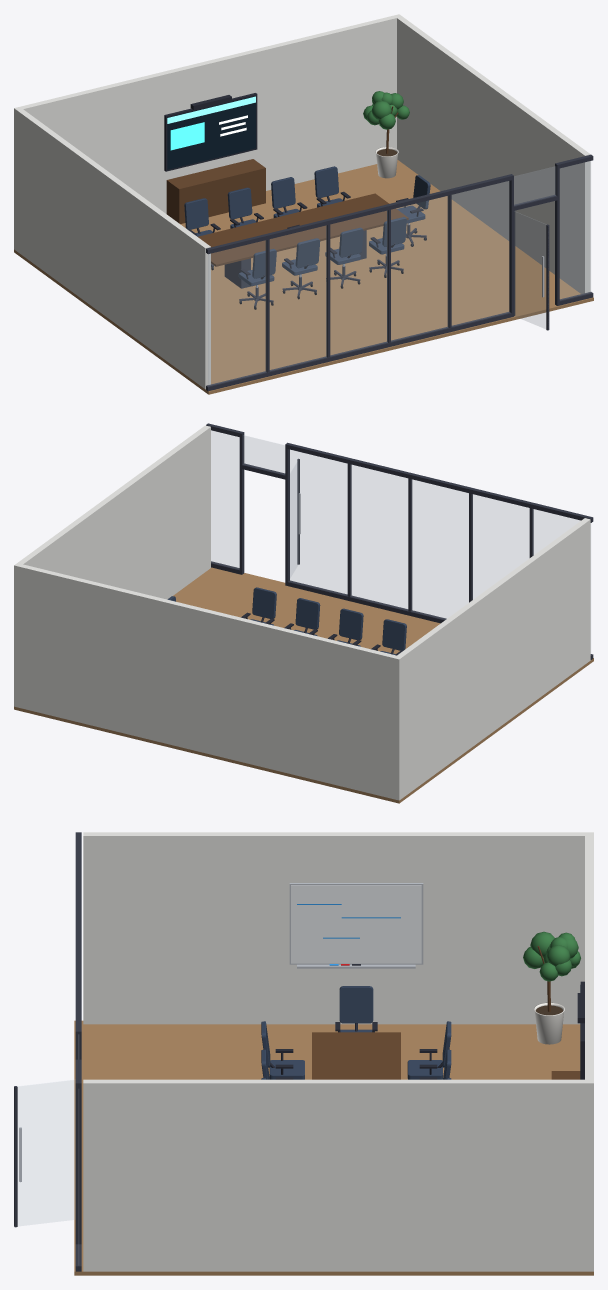
3 renders of one model, top to bottom at view 1: azimuth 30°, elevation 25°; view 2: azimuth 150°, elevation 25°; view 3: azimuth 270°, elevation 25°, orthographic. The views are drawn at different scales.
Parts seen in each view (by area): view 1: office_wall, glass_clear, wood_floor, dark_steel, walnut, chair_fabric, monitor_screen, plastic_dark, leaf, trace_spo2, pump_screen, ceramic_white; view 2: office_wall, glass_clear, wood_floor, dark_steel, chair_fabric; view 3: office_wall, wood_floor, white, glass_clear, walnut, dark_steel, chair_fabric, leaf, stainless, plastic_dark, ceramic_white.
Boxes of the visible parts, left/top/right/bottom form: office_wall: left=14, top=14, right=590, bottom=389; glass_clear: left=208, top=161, right=590, bottom=385; wood_floor: left=14, top=160, right=593, bottom=394; dark_steel: left=206, top=154, right=593, bottom=391; walnut: left=166, top=106, right=408, bottom=266; chair_fabric: left=184, top=166, right=430, bottom=286; monitor_screen: left=167, top=96, right=255, bottom=169; plastic_dark: left=164, top=93, right=423, bottom=279; leaf: left=363, top=91, right=409, bottom=129; trace_spo2: left=170, top=122, right=204, bottom=150; pump_screen: left=167, top=96, right=255, bottom=123; ceramic_white: left=375, top=147, right=398, bottom=178; office_wall: left=14, top=425, right=590, bottom=800; glass_clear: left=211, top=431, right=579, bottom=618; wood_floor: left=14, top=567, right=593, bottom=803; dark_steel: left=206, top=423, right=593, bottom=659; chair_fabric: left=167, top=587, right=406, bottom=654; office_wall: left=83, top=832, right=593, bottom=1271; wood_floor: left=74, top=1020, right=593, bottom=1275; white: left=291, top=885, right=421, bottom=963; glass_clear: left=18, top=1080, right=74, bottom=1225; walnut: left=312, top=946, right=580, bottom=1079; dark_steel: left=14, top=832, right=81, bottom=1271; chair_fabric: left=261, top=986, right=451, bottom=1079; leaf: left=523, top=931, right=580, bottom=981; stainless: left=19, top=883, right=423, bottom=1182; plastic_dark: left=270, top=964, right=584, bottom=1079; ceramic_white: left=534, top=1002, right=564, bottom=1044.
Bounding box in the file's own units: 8 × 2.86 × 7.81.
